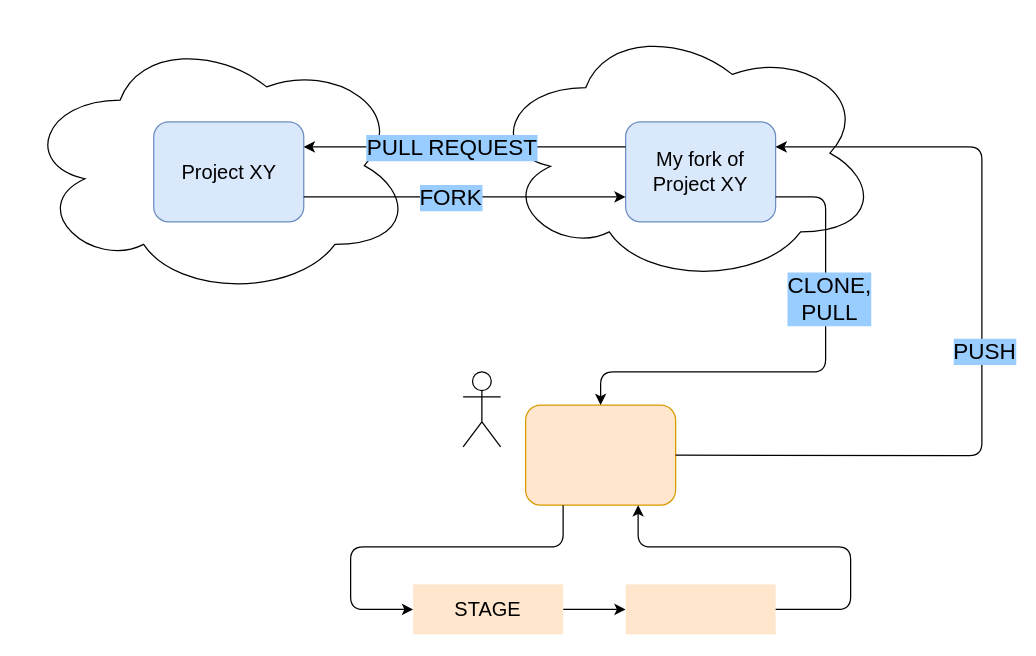
This 1036x656 diagram has some shape labels left out. Each missing label, with the box of its shape:
COMMIT: (625, 584, 775, 634)
Local version of fork of Project XY: (524, 404, 676, 505)
